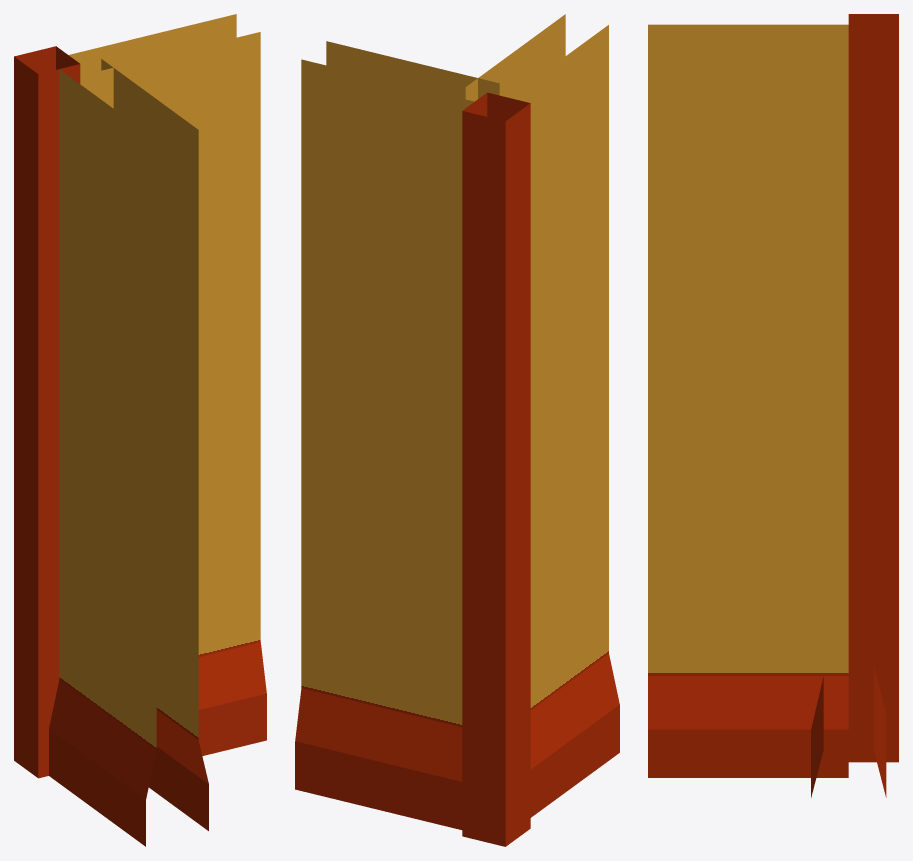
File: CartoonWall3.gltf
3 views of the same model, side by side, from view 1: azimuth 30°, elevation 25°; view 2: azimuth 150°, elevation 25°; view 3: azimuth 270°, elevation 25° (orthographic). The views are drawn at different scales.
Visible parts, largest first — view 1: cuboid; view 2: cuboid; view 3: cuboid.
Part boxes in pixels (x1=…): cuboid: x1=14, y1=14, x2=266, y2=846; cuboid: x1=295, y1=14, x2=619, y2=846; cuboid: x1=648, y1=14, x2=898, y2=797.
Bounding box in the file's own units: 1.25 × 4 × 1.25.
1 material, 1 textured.
